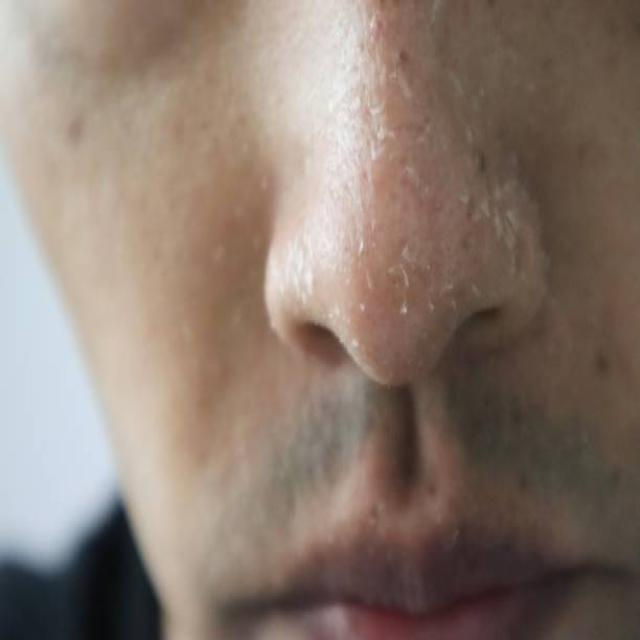Dry-Skin: (231, 415, 586, 591), (51, 59, 180, 324), (510, 82, 640, 340), (289, 85, 442, 253), (140, 153, 226, 335), (123, 446, 240, 460)
